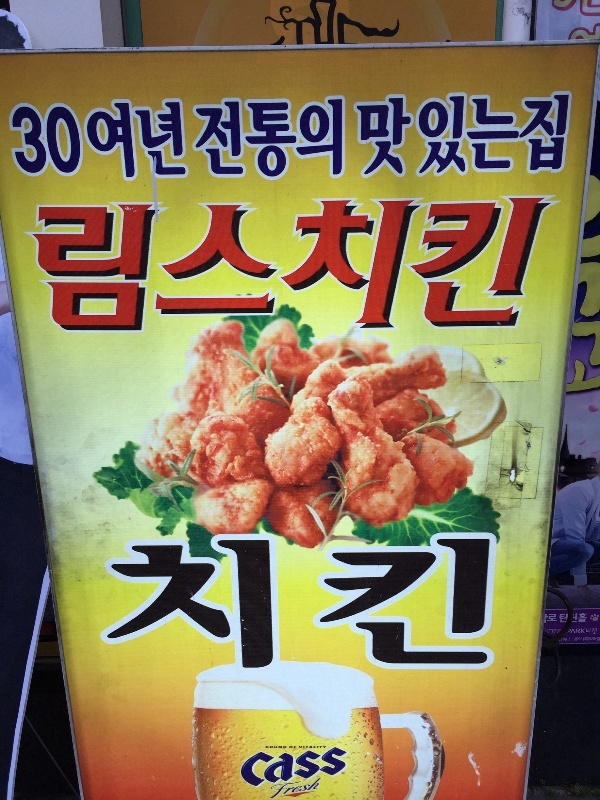text: (33, 199, 48, 347), (49, 199, 64, 347), (65, 199, 80, 347), (81, 199, 96, 347), (97, 199, 112, 347), (113, 199, 128, 347), (129, 199, 144, 347), (145, 199, 160, 347), (161, 199, 176, 347), (177, 199, 192, 347), (193, 199, 208, 347), (209, 199, 224, 347), (225, 199, 240, 347), (241, 199, 256, 347), (257, 199, 272, 347), (129, 530, 144, 676), (145, 530, 160, 676), (161, 530, 176, 676), (177, 530, 192, 676), (193, 530, 208, 676), (209, 530, 224, 676), (225, 530, 240, 676), (241, 530, 256, 676), (257, 530, 272, 676), (273, 530, 288, 676), (289, 530, 304, 676), (305, 530, 320, 676), (321, 530, 336, 676), (337, 530, 352, 676), (353, 530, 368, 676), (369, 530, 384, 676), (385, 530, 400, 676), (401, 530, 416, 676), (417, 530, 432, 676), (433, 530, 448, 676), (449, 530, 464, 676), (465, 530, 480, 676), (305, 185, 320, 327), (321, 185, 336, 327), (337, 185, 352, 327), (353, 185, 368, 327), (369, 185, 384, 327), (385, 185, 400, 327), (401, 185, 416, 327), (417, 185, 432, 327), (433, 185, 448, 327), (449, 185, 464, 327), (465, 185, 480, 327), (481, 185, 496, 327), (497, 185, 512, 327), (513, 185, 528, 327), (529, 185, 544, 327), (273, 199, 285, 347), (117, 530, 128, 676), (593, 171, 600, 396), (481, 530, 491, 676), (369, 93, 384, 179), (385, 93, 400, 179), (401, 93, 416, 179), (417, 93, 432, 179), (433, 93, 448, 179), (449, 93, 464, 179), (465, 93, 480, 179), (481, 93, 496, 179), (497, 93, 512, 179), (513, 93, 528, 179), (529, 93, 544, 179), (545, 93, 560, 179), (17, 101, 32, 185), (33, 101, 48, 185), (49, 101, 64, 185), (65, 101, 80, 185), (81, 101, 96, 185), (97, 101, 112, 185), (113, 101, 128, 185), (129, 101, 144, 185), (145, 101, 160, 185), (161, 101, 176, 185), (209, 99, 224, 180), (225, 99, 240, 180), (241, 99, 256, 180), (257, 99, 272, 180), (273, 99, 288, 180), (289, 99, 304, 180), (305, 99, 320, 180), (321, 99, 336, 180), (194, 99, 208, 180), (25, 199, 32, 347), (356, 93, 368, 179), (177, 101, 187, 185), (561, 93, 570, 179), (257, 747, 272, 788), (273, 747, 288, 788), (289, 747, 304, 788), (305, 747, 320, 788), (321, 747, 336, 788), (10, 101, 16, 185), (337, 99, 343, 180), (245, 747, 256, 788), (337, 747, 348, 788), (301, 185, 304, 327), (545, 185, 548, 327), (273, 778, 288, 800), (289, 778, 304, 800), (305, 778, 320, 800), (577, 23, 592, 41), (561, 1, 576, 17), (577, 1, 592, 17), (591, 171, 592, 396), (551, 1, 560, 17), (546, 614, 560, 624), (593, 23, 600, 41), (577, 613, 588, 624), (593, 1, 600, 17), (561, 637, 576, 642), (547, 629, 560, 634), (561, 614, 568, 623), (583, 636, 592, 642), (586, 628, 592, 636), (305, 746, 320, 749), (290, 746, 304, 749), (273, 746, 287, 749), (593, 636, 600, 642), (577, 629, 585, 634), (593, 628, 597, 636), (570, 629, 576, 634), (577, 637, 582, 642), (321, 778, 322, 800), (574, 613, 576, 624), (572, 637, 576, 642), (266, 746, 272, 749), (299, 746, 304, 749), (321, 746, 326, 749), (561, 629, 562, 634)
